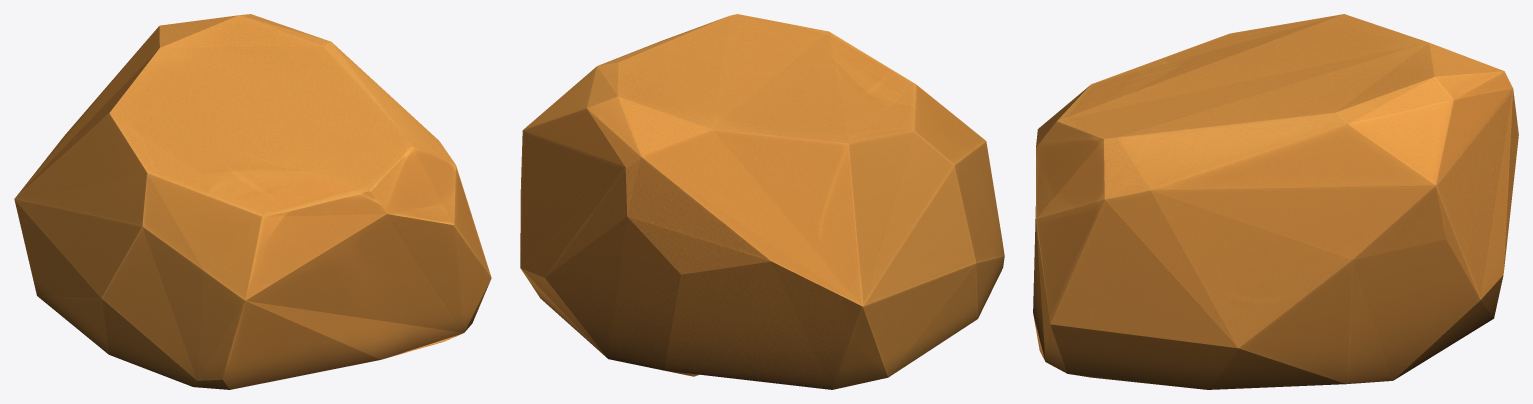
File: Meshy_AI_Golden_Boulder_0818035113_texture.fbx
3 renders of one model, left to right at view 1: azimuth 30°, elevation 25°; view 2: azimuth 150°, elevation 25°; view 3: azimuth 270°, elevation 25°, orthographic. The views are drawn at different scales.
Visible parts, largest first — view 1: mesh_node; view 2: mesh_node; view 3: mesh_node.
Part boxes in pixels (x1,y1,x2,y2): mesh_node: [14, 14, 491, 389]; mesh_node: [520, 14, 1004, 389]; mesh_node: [1033, 14, 1518, 389].
Bounding box in the file's own units: 8.6 × 5 × 8.55.
1 material, 1 textured.
